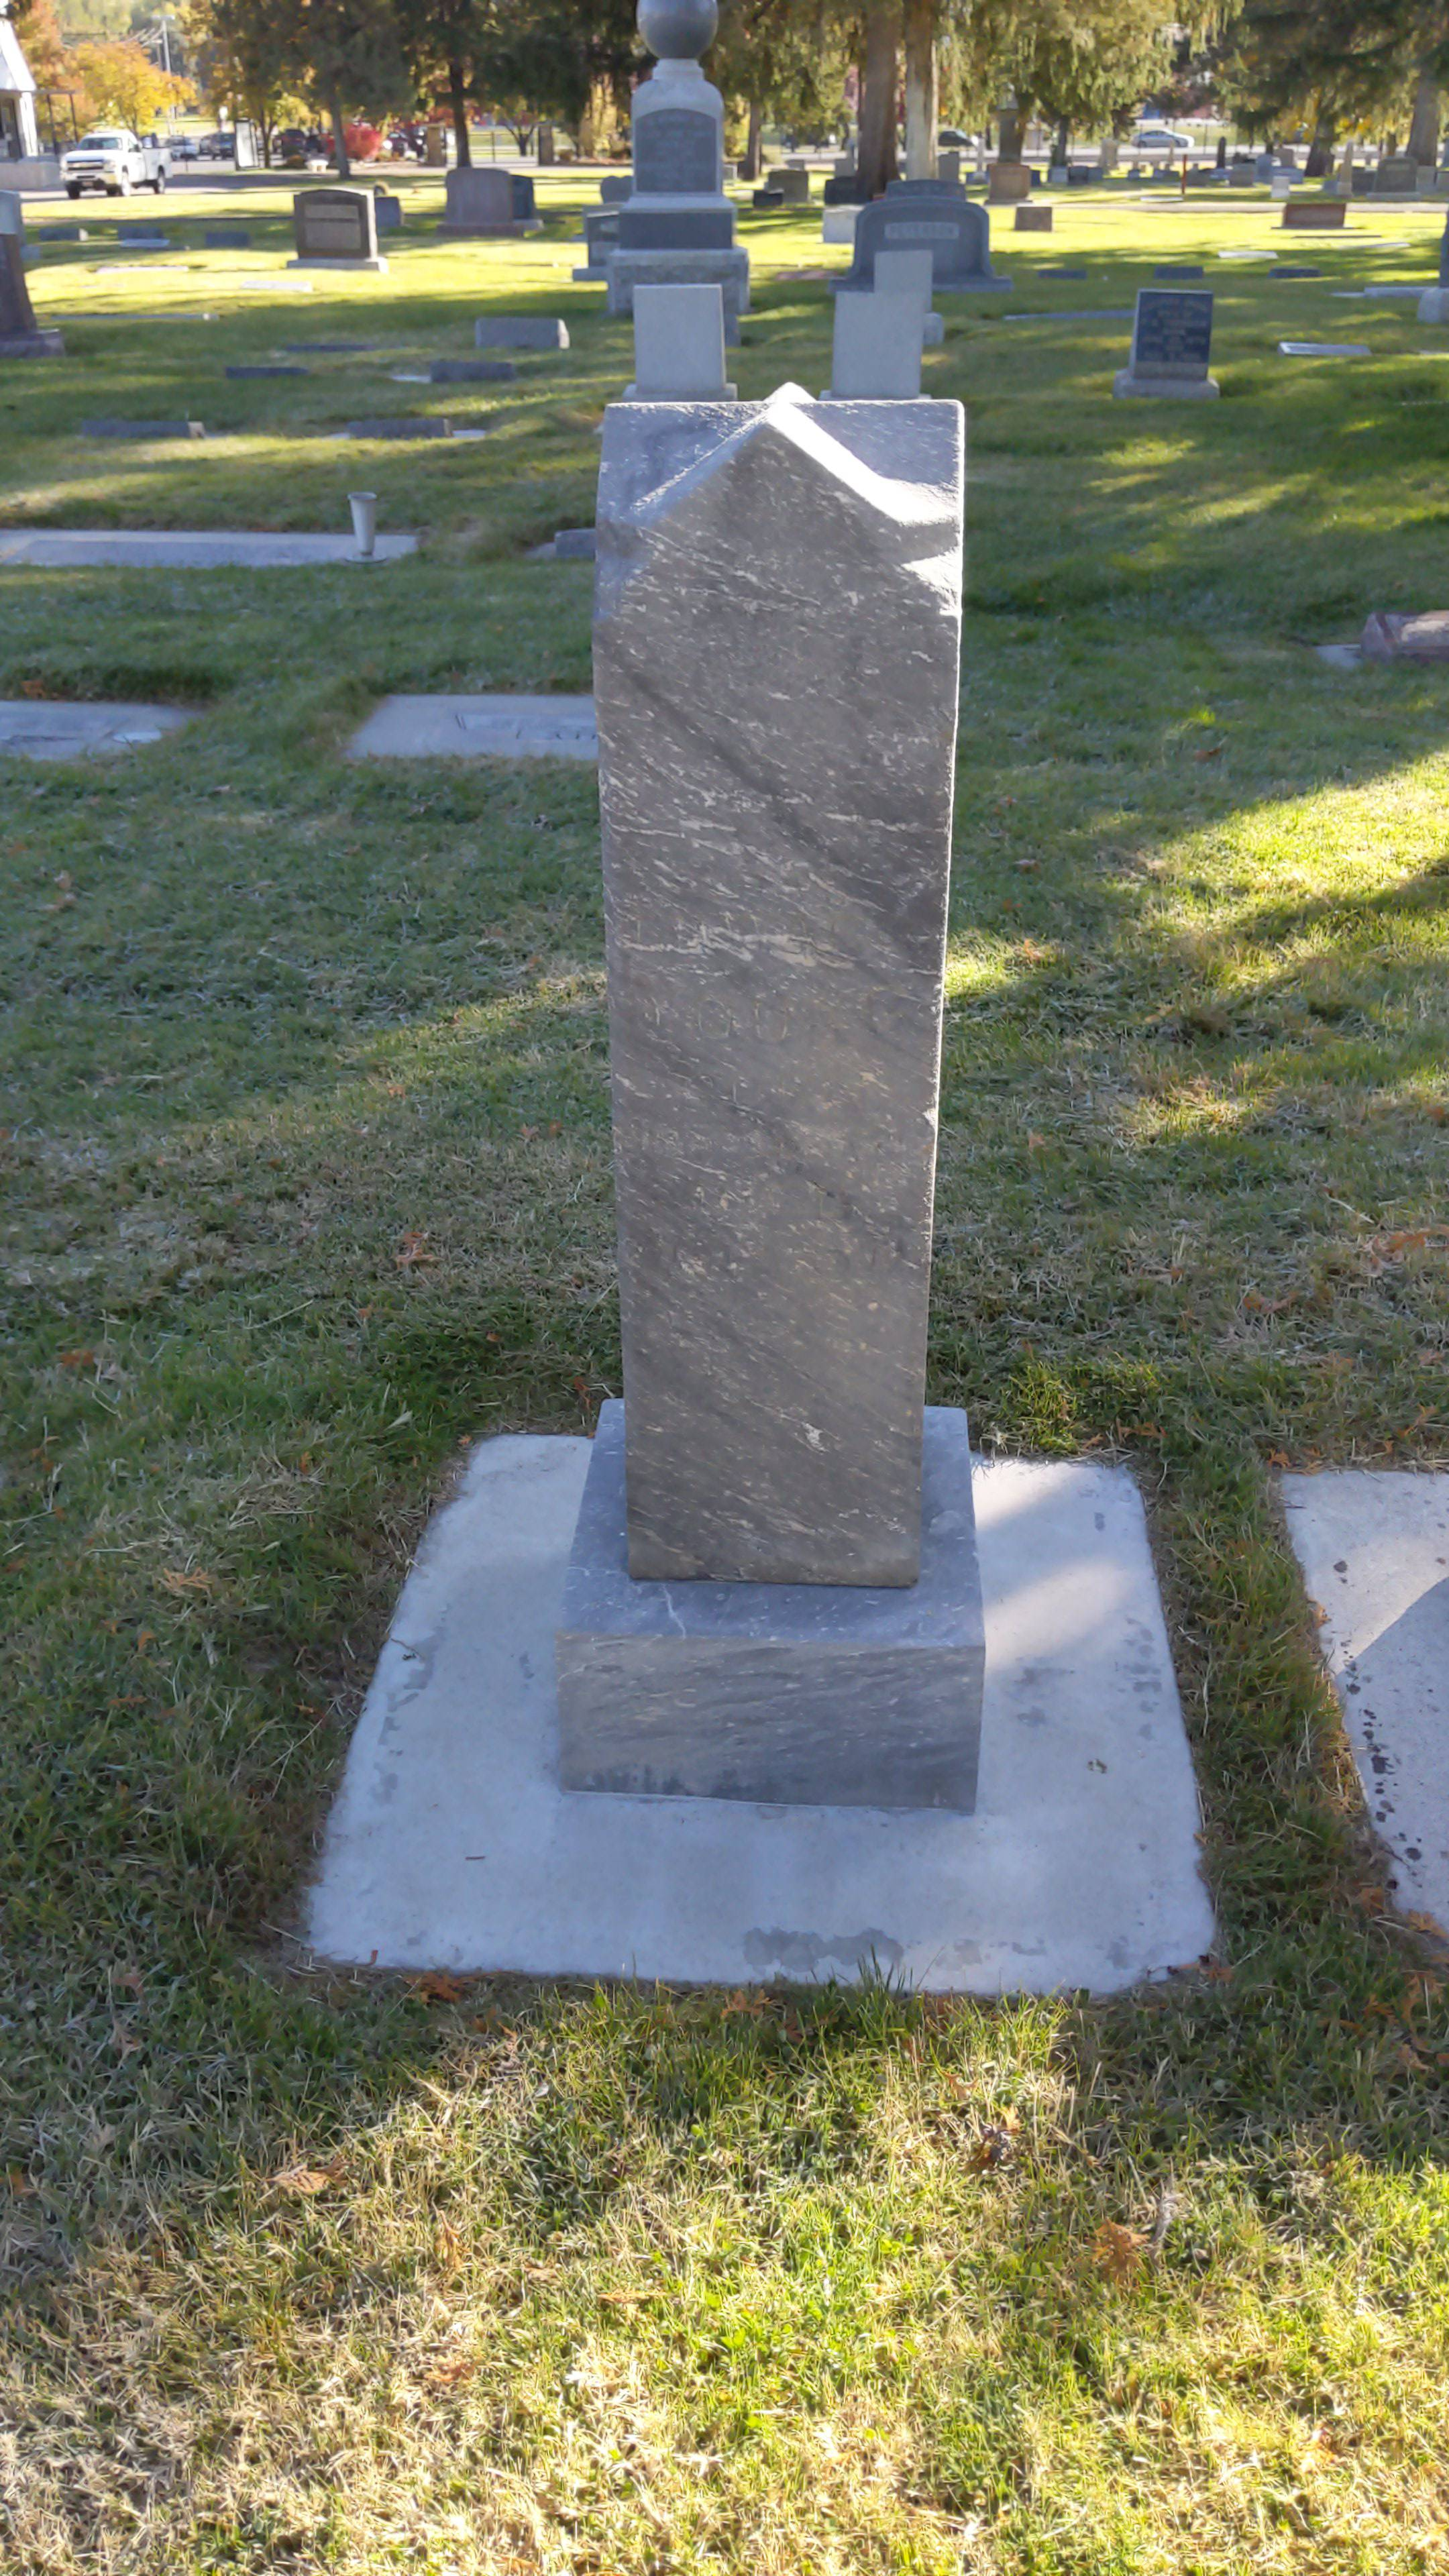obelisk: (552, 396, 985, 1810)
